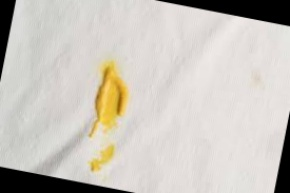mustard: (84, 61, 137, 142), (84, 141, 121, 178)
